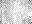person: (25, 11, 31, 17)
